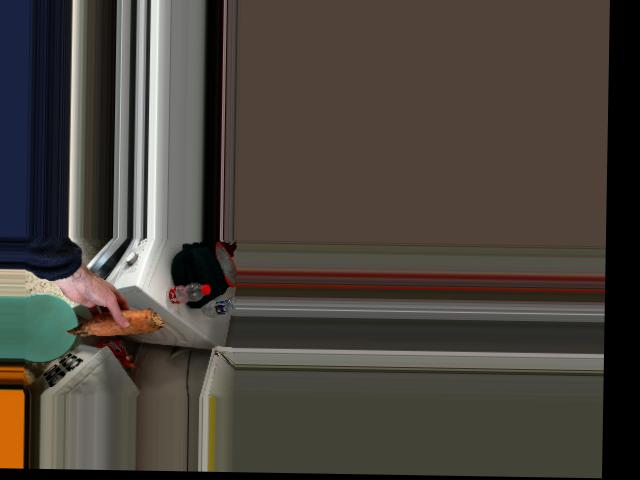sweet_potato: (65, 312, 168, 334)
